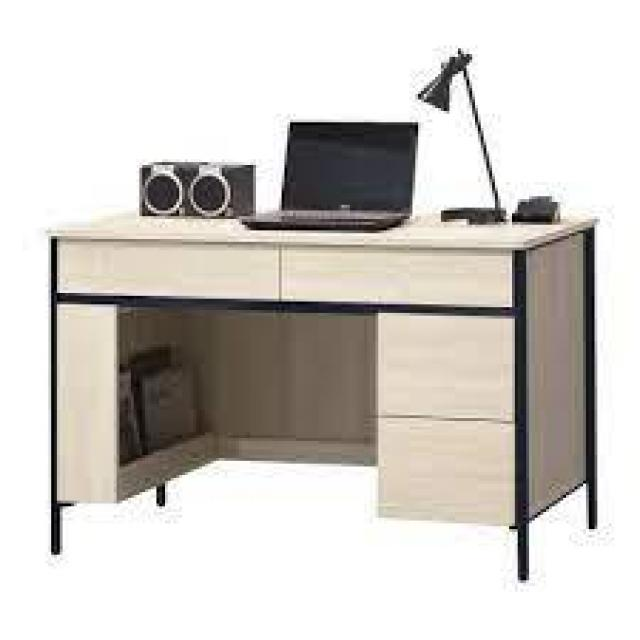desk: (20, 72, 623, 604)
